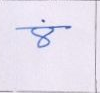anusvara: (42, 20, 45, 22)
